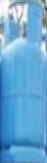cylinder: (1, 1, 47, 163)
